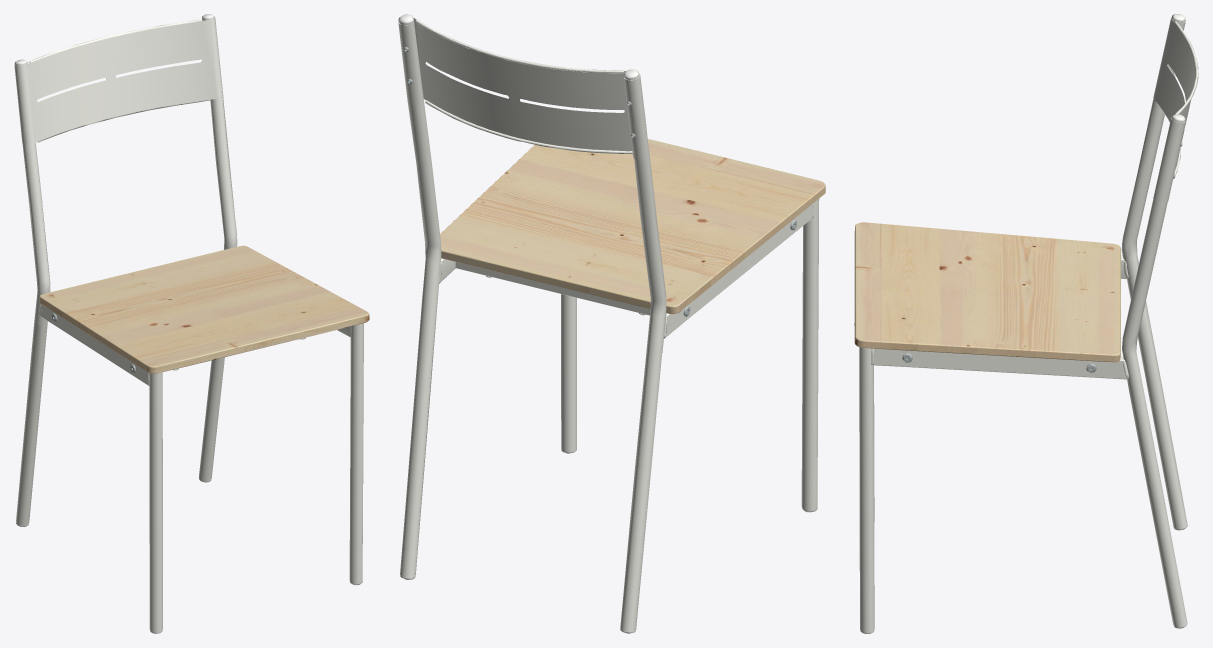
Rendered from BUSLÄTT chair - whitepine (90601139).glb.
3 renders of one model, left to right at view 1: azimuth 30°, elevation 25°; view 2: azimuth 150°, elevation 25°; view 3: azimuth 270°, elevation 25°, orthographic. The views are drawn at different scales.
Parts seen in each view (by area): view 1: ASY_ART_90601139_S01_NV01; view 2: ASY_ART_90601139_S01_NV01; view 3: ASY_ART_90601139_S01_NV01.
Part boxes in pixels (x1,y1,x2,y2): ASY_ART_90601139_S01_NV01: (14, 14, 369, 633); ASY_ART_90601139_S01_NV01: (398, 14, 825, 633); ASY_ART_90601139_S01_NV01: (854, 14, 1198, 633).
Bounding box in the file's own units: 0.39 × 0.7867 × 0.4776.
Materials: 1 (1 with a texture image).
